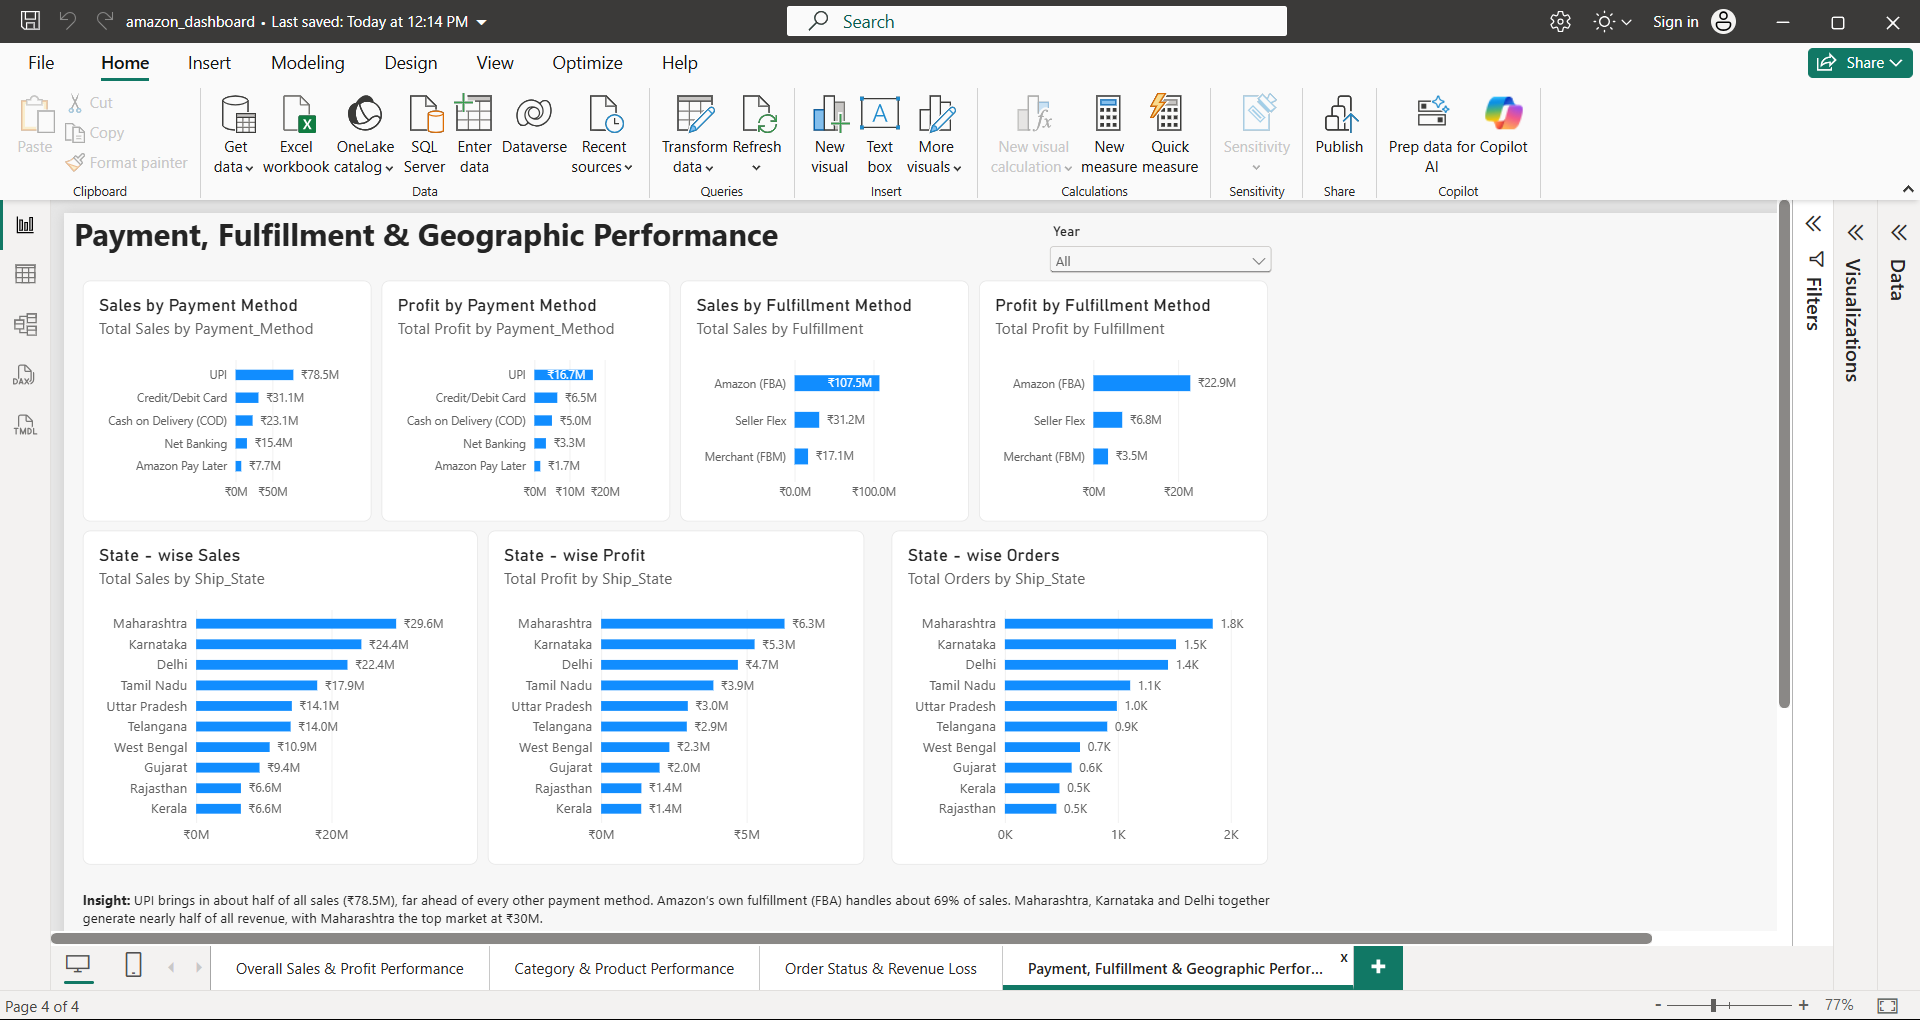

What the dashboard file says about the page in this screenshot:
{"tool":"powerbi","page":{"name":"Payment, Fulfillment & Geographic Performance","canvas":[1920,1080],"ordinal":3},"visuals":[{"type":"textbox","box":[10,0,826.2,82.5],"z":0},{"type":"clusteredBarChart","title":"Sales by Payment Method","fields":{"Category":["Sales.Payment_Method"],"Y":["Sales.Total Sales"]},"box":[20,70,300,250],"z":1},{"type":"clusteredBarChart","title":"Profit by Payment Method","fields":{"Category":["Sales.Payment_Method"],"Y":["Sales.Total Profit"]},"box":[330,70,300,250],"z":2},{"type":"clusteredBarChart","title":"Sales by Fulfillment Method","fields":{"Category":["Sales.Fulfillment"],"Y":["Sales.Total Sales"]},"box":[640,70,300,250],"z":3},{"type":"clusteredBarChart","title":"Profit by Fulfillment Method","fields":{"Category":["Sales.Fulfillment"],"Y":["Sales.Total Profit"]},"box":[950,70,300,250],"z":4},{"type":"clusteredBarChart","title":"State - wise Sales","fields":{"Category":["Sales.Ship_State"],"Y":["Sales.Total Sales"]},"box":[19.9,329.4,410.8,347.5],"z":5},{"type":"clusteredBarChart","title":"State - wise Profit","fields":{"Category":["Sales.Ship_State"],"Y":["Sales.Total Profit"]},"box":[439.7,329.4,390.9,347.5],"z":6},{"type":"clusteredBarChart","title":"State - wise Orders","fields":{"Category":["Sales.Ship_State"],"Y":["Sales.Total Orders"]},"box":[859.6,329.4,390.9,347.5],"z":7},{"type":"slicer","fields":{"Values":["Sales.Year"]},"box":[1020,10,240,55],"z":8},{"type":"textbox","box":[19.9,704,1239.6,103.2],"z":9}]}

Visuals, with their boxes on the page's 1920x1080 design canvas (x1, y1, x2, y2). These are canvas units, not pixel positions in the 1920x1020 screenshot, which may show the page scaled, cropped or inside an application window:
textbox: l=10, t=0, r=836, b=82
"Sales by Payment Method" clusteredBarChart: l=20, t=70, r=320, b=320
"Profit by Payment Method" clusteredBarChart: l=330, t=70, r=630, b=320
"Sales by Fulfillment Method" clusteredBarChart: l=640, t=70, r=940, b=320
"Profit by Fulfillment Method" clusteredBarChart: l=950, t=70, r=1250, b=320
"State - wise Sales" clusteredBarChart: l=20, t=329, r=431, b=677
"State - wise Profit" clusteredBarChart: l=440, t=329, r=831, b=677
"State - wise Orders" clusteredBarChart: l=860, t=329, r=1250, b=677
slicer - Sales.Year: l=1020, t=10, r=1260, b=65
textbox: l=20, t=704, r=1260, b=807
